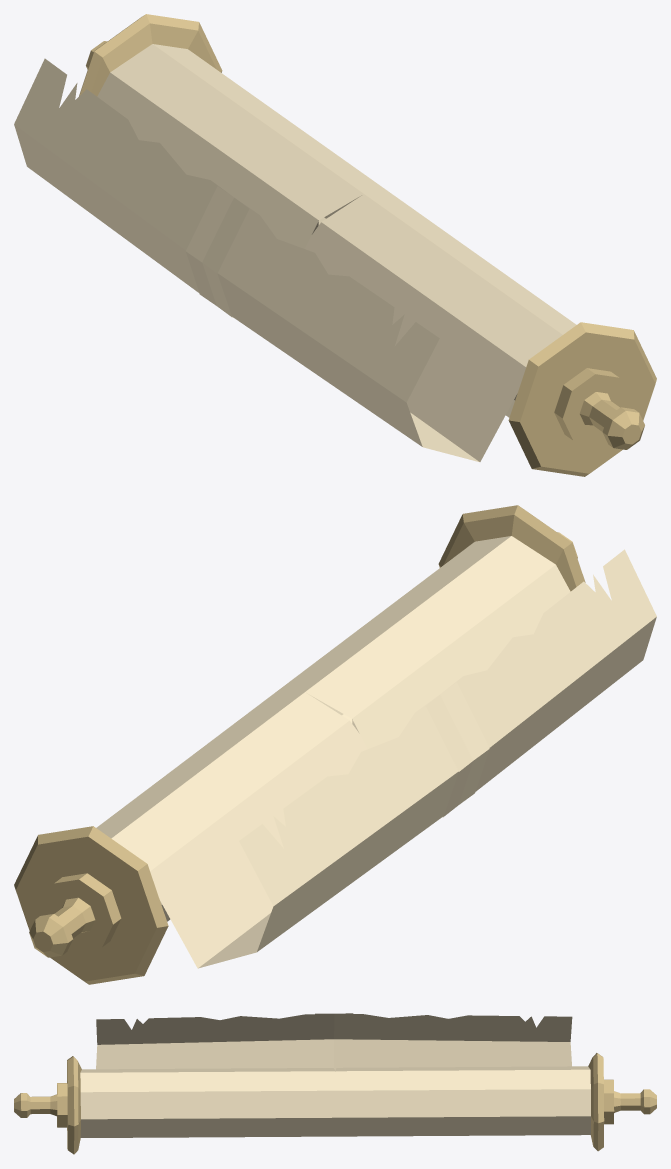
Rendered from Scroll2.fbx.
3 views of the same model, one above another, from view 1: azimuth 30°, elevation 25°; view 2: azimuth 150°, elevation 25°; view 3: azimuth 270°, elevation 25° (orthographic). The views are drawn at different scales.
Visible parts, largest first — view 1: Single scrol 2; view 2: Single scrol 2; view 3: Single scrol 2.
Part boxes in pixels (box(x1,y1,x2,y2)): Single scrol 2: box(14, 14, 656, 476); Single scrol 2: box(14, 505, 656, 984); Single scrol 2: box(14, 1013, 656, 1154).
Size of the model in its own units: 26.63 by 16.5 by 97.82.
